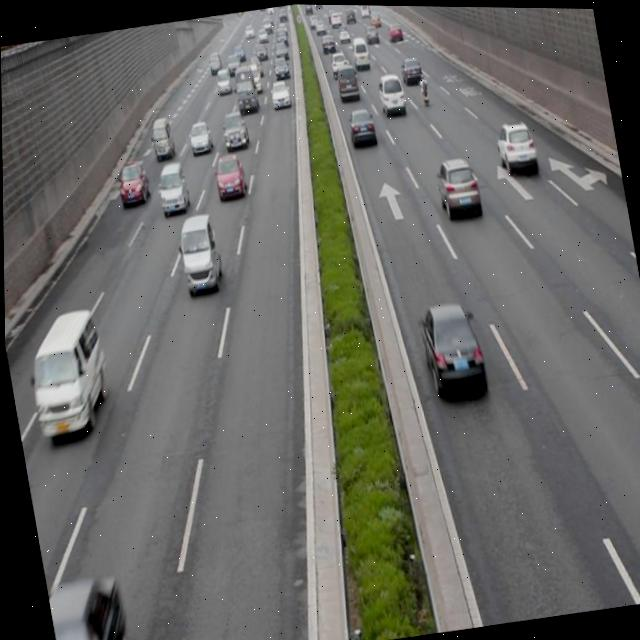car: (414, 297, 486, 397), (44, 569, 132, 640), (431, 153, 482, 222), (493, 117, 538, 176), (211, 151, 248, 203), (115, 158, 151, 208), (220, 109, 250, 151), (346, 106, 377, 146), (187, 119, 212, 153)
truck: (20, 306, 113, 440), (175, 213, 223, 294), (153, 159, 190, 214), (375, 70, 408, 117), (148, 114, 175, 160), (334, 63, 358, 101)
